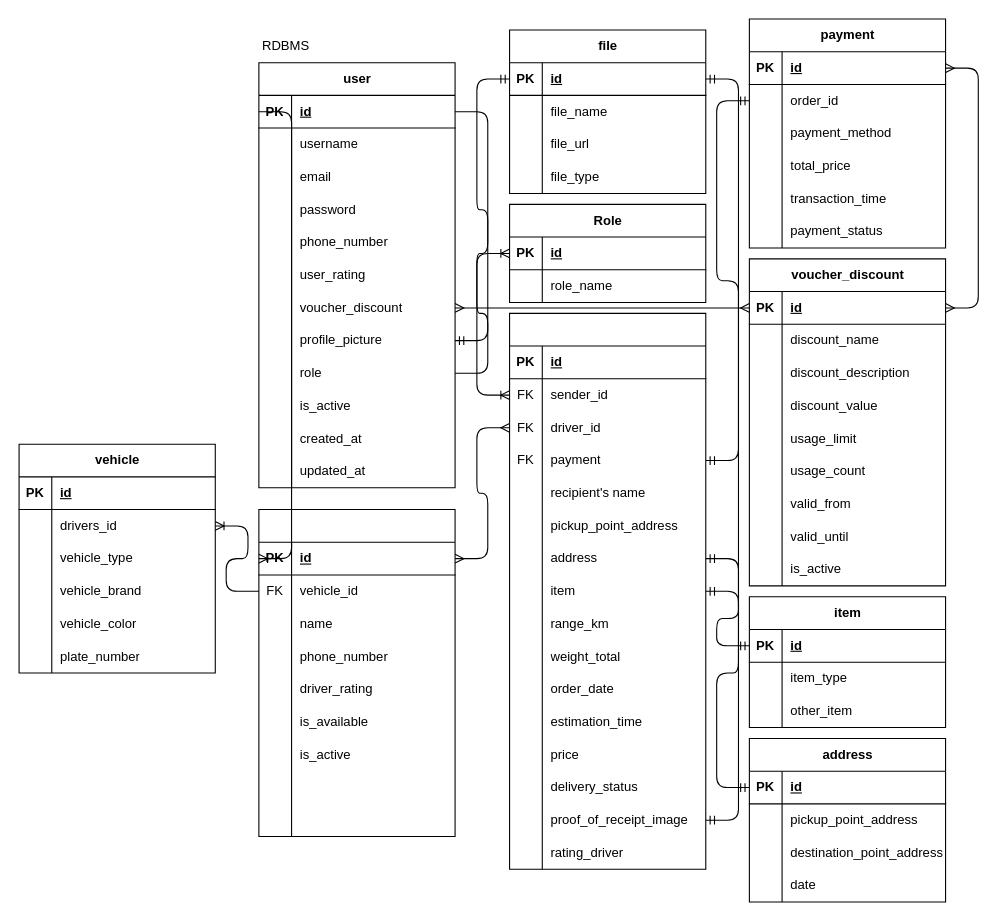
Some shapes in this 1007 by 921 pixel diagram are drawn without their labels. The box of each missing label's shape, as (x1, y1, x2, y2) in pixels:
delivery_order: (508, 312, 706, 869)
drivers: (258, 508, 455, 837)
